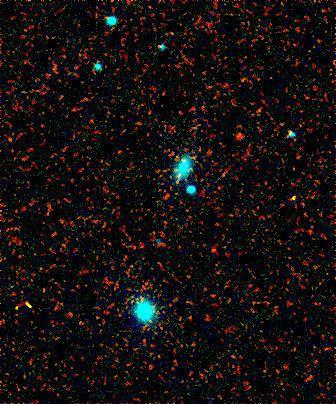star: (282, 181, 312, 211)
